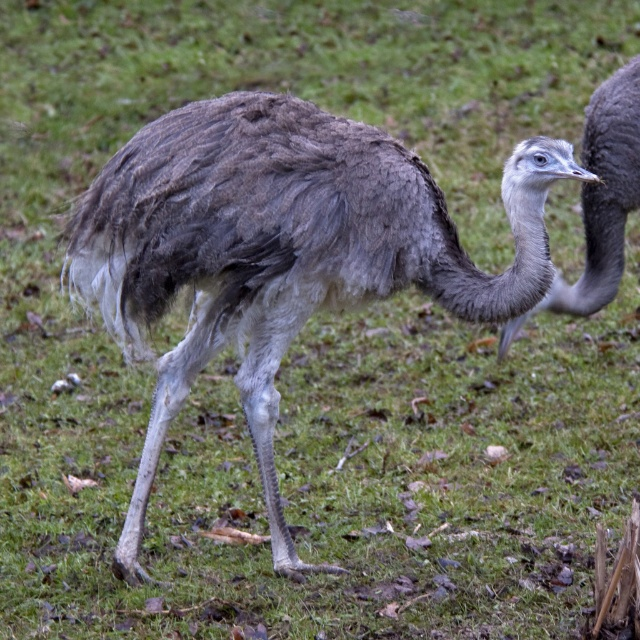Ostrich: (54, 91, 600, 587), (497, 53, 640, 369)
